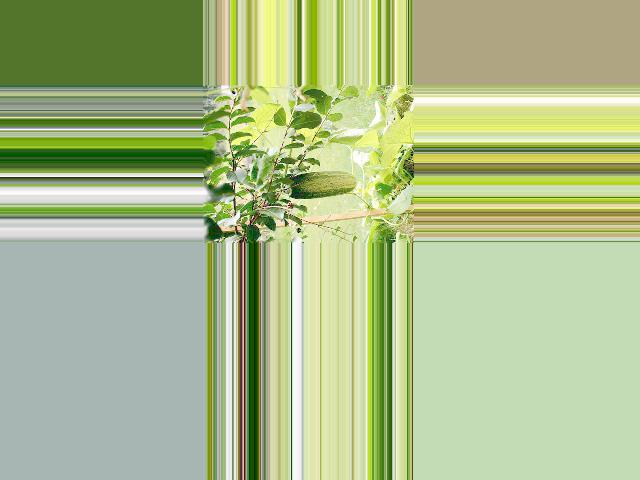cucumber: (281, 171, 356, 200)
